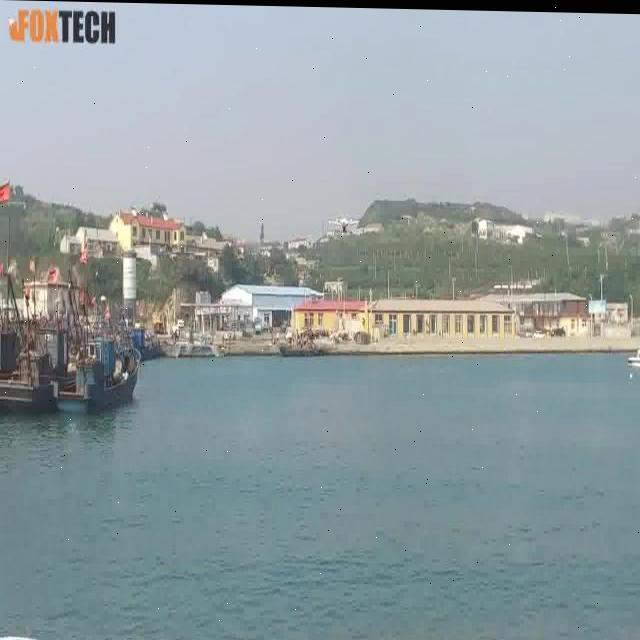drone: (328, 211, 358, 234)
